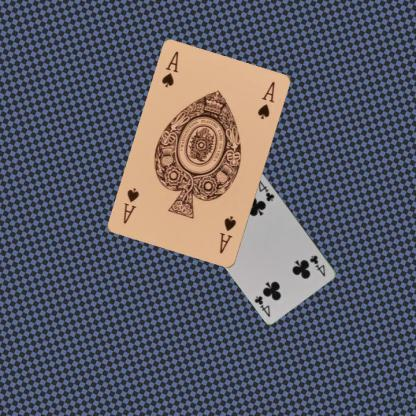4c: (307, 252, 327, 278)
As: (216, 214, 237, 256), (159, 48, 180, 90)
